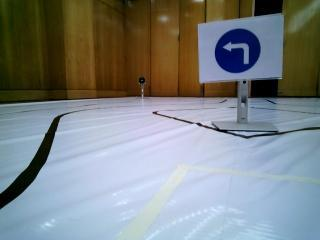left: (205, 26, 275, 77)
